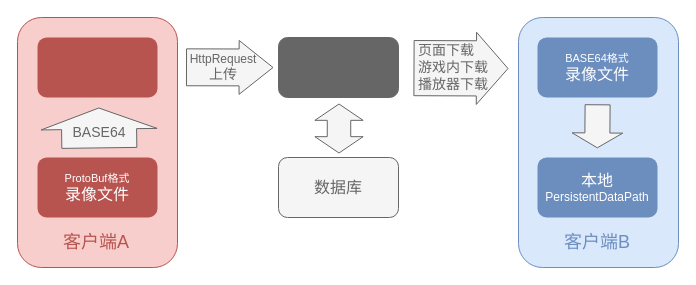
The diagram is 696 pixels wide and 285 high, and some of its shapes have lost their labels. Here are the shapes that lost their labels. From the top down, the centre of each, then its label:
At (x=97, y=67): "BASE64格式 录像数据字符串".
At (x=338, y=67): "Web服务器".
